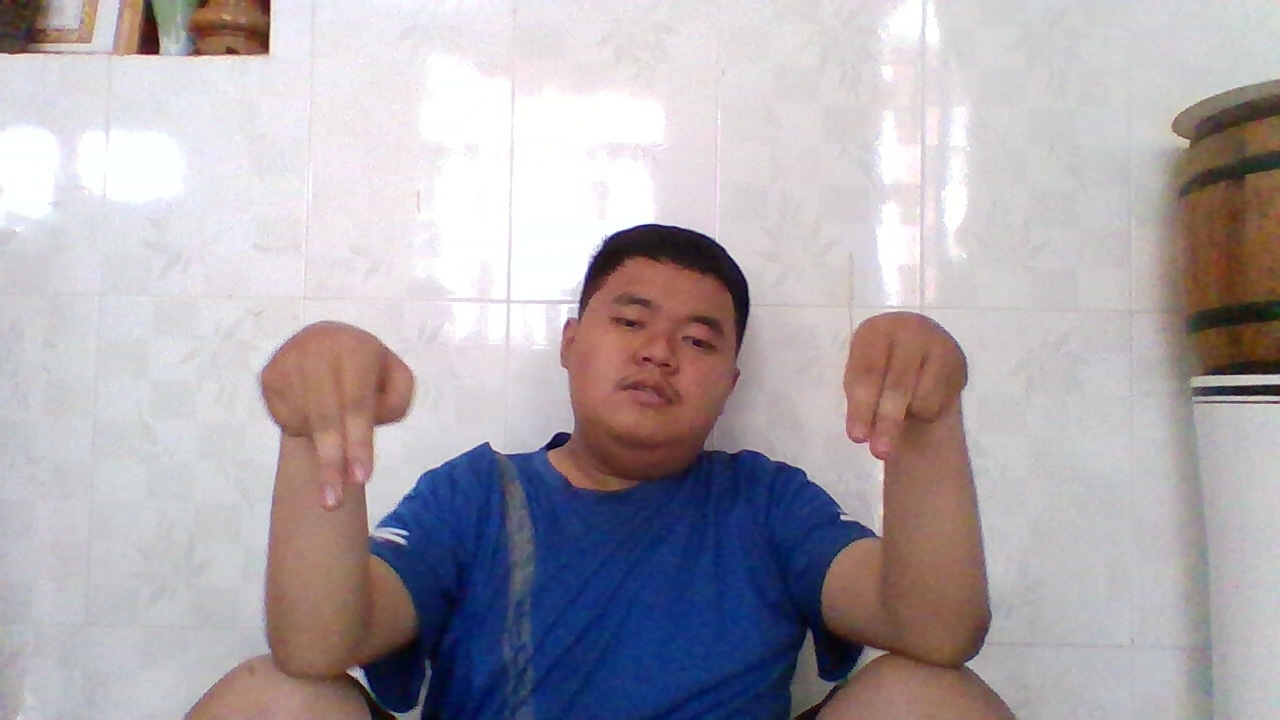N: (252, 322, 417, 509), (832, 313, 964, 457)
